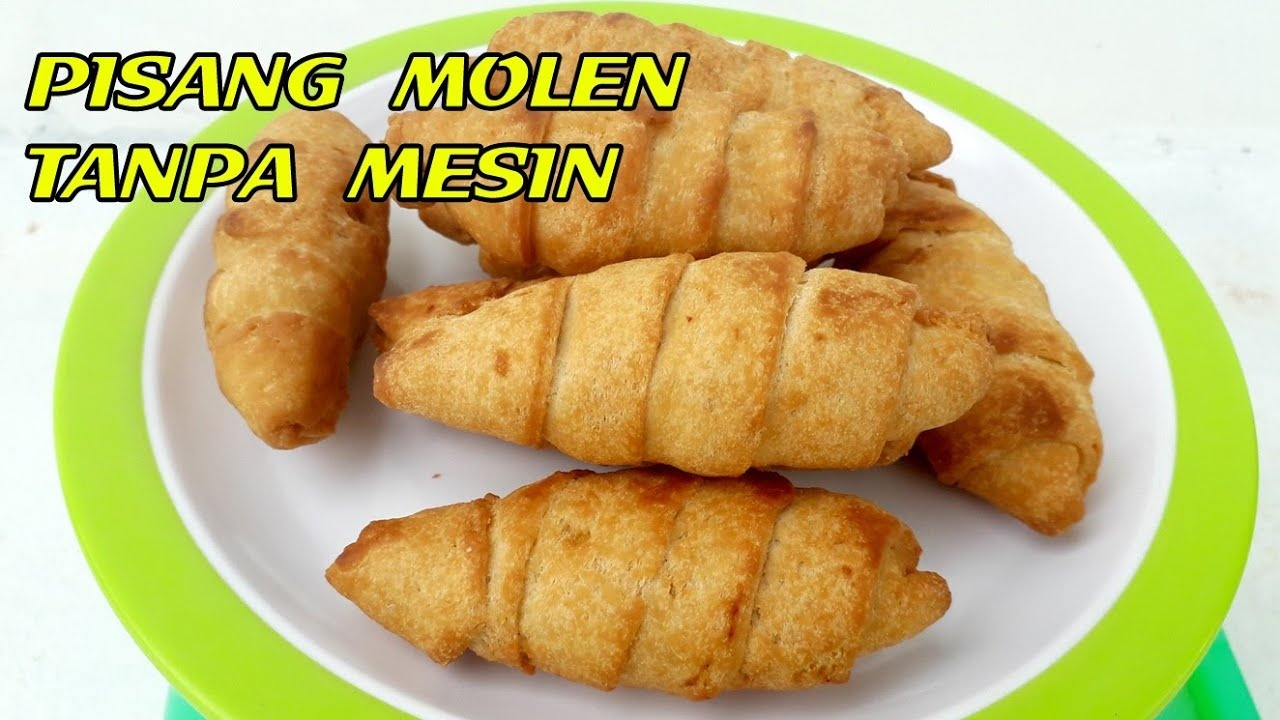pisang_molen: (323, 468, 950, 700), (373, 250, 993, 477), (204, 106, 390, 448)
